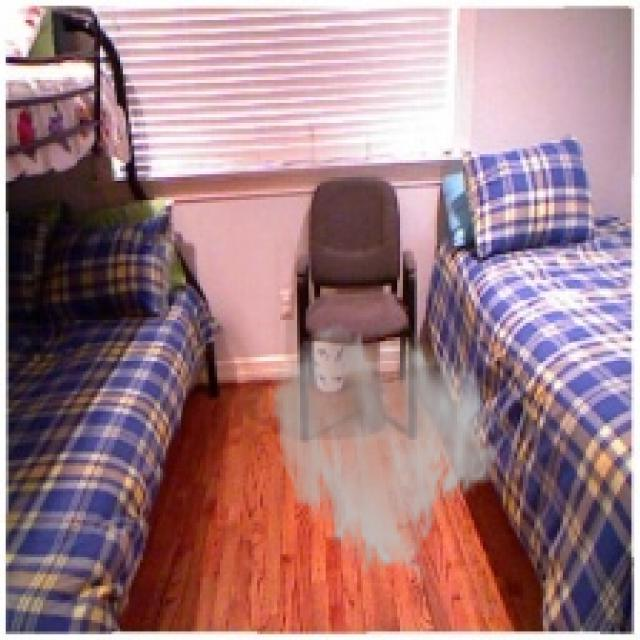smoke: (269, 320, 500, 586)
